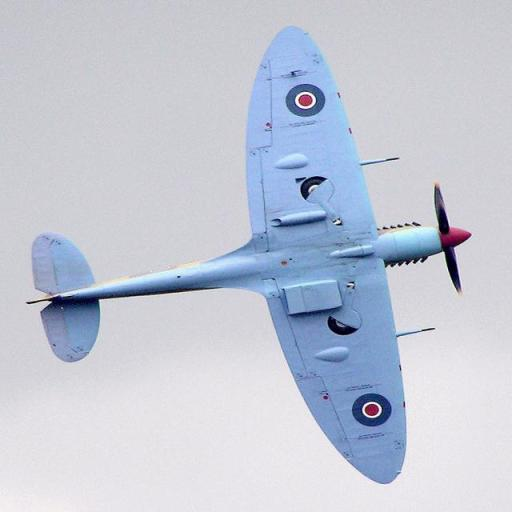uav: (13, 20, 479, 488)
